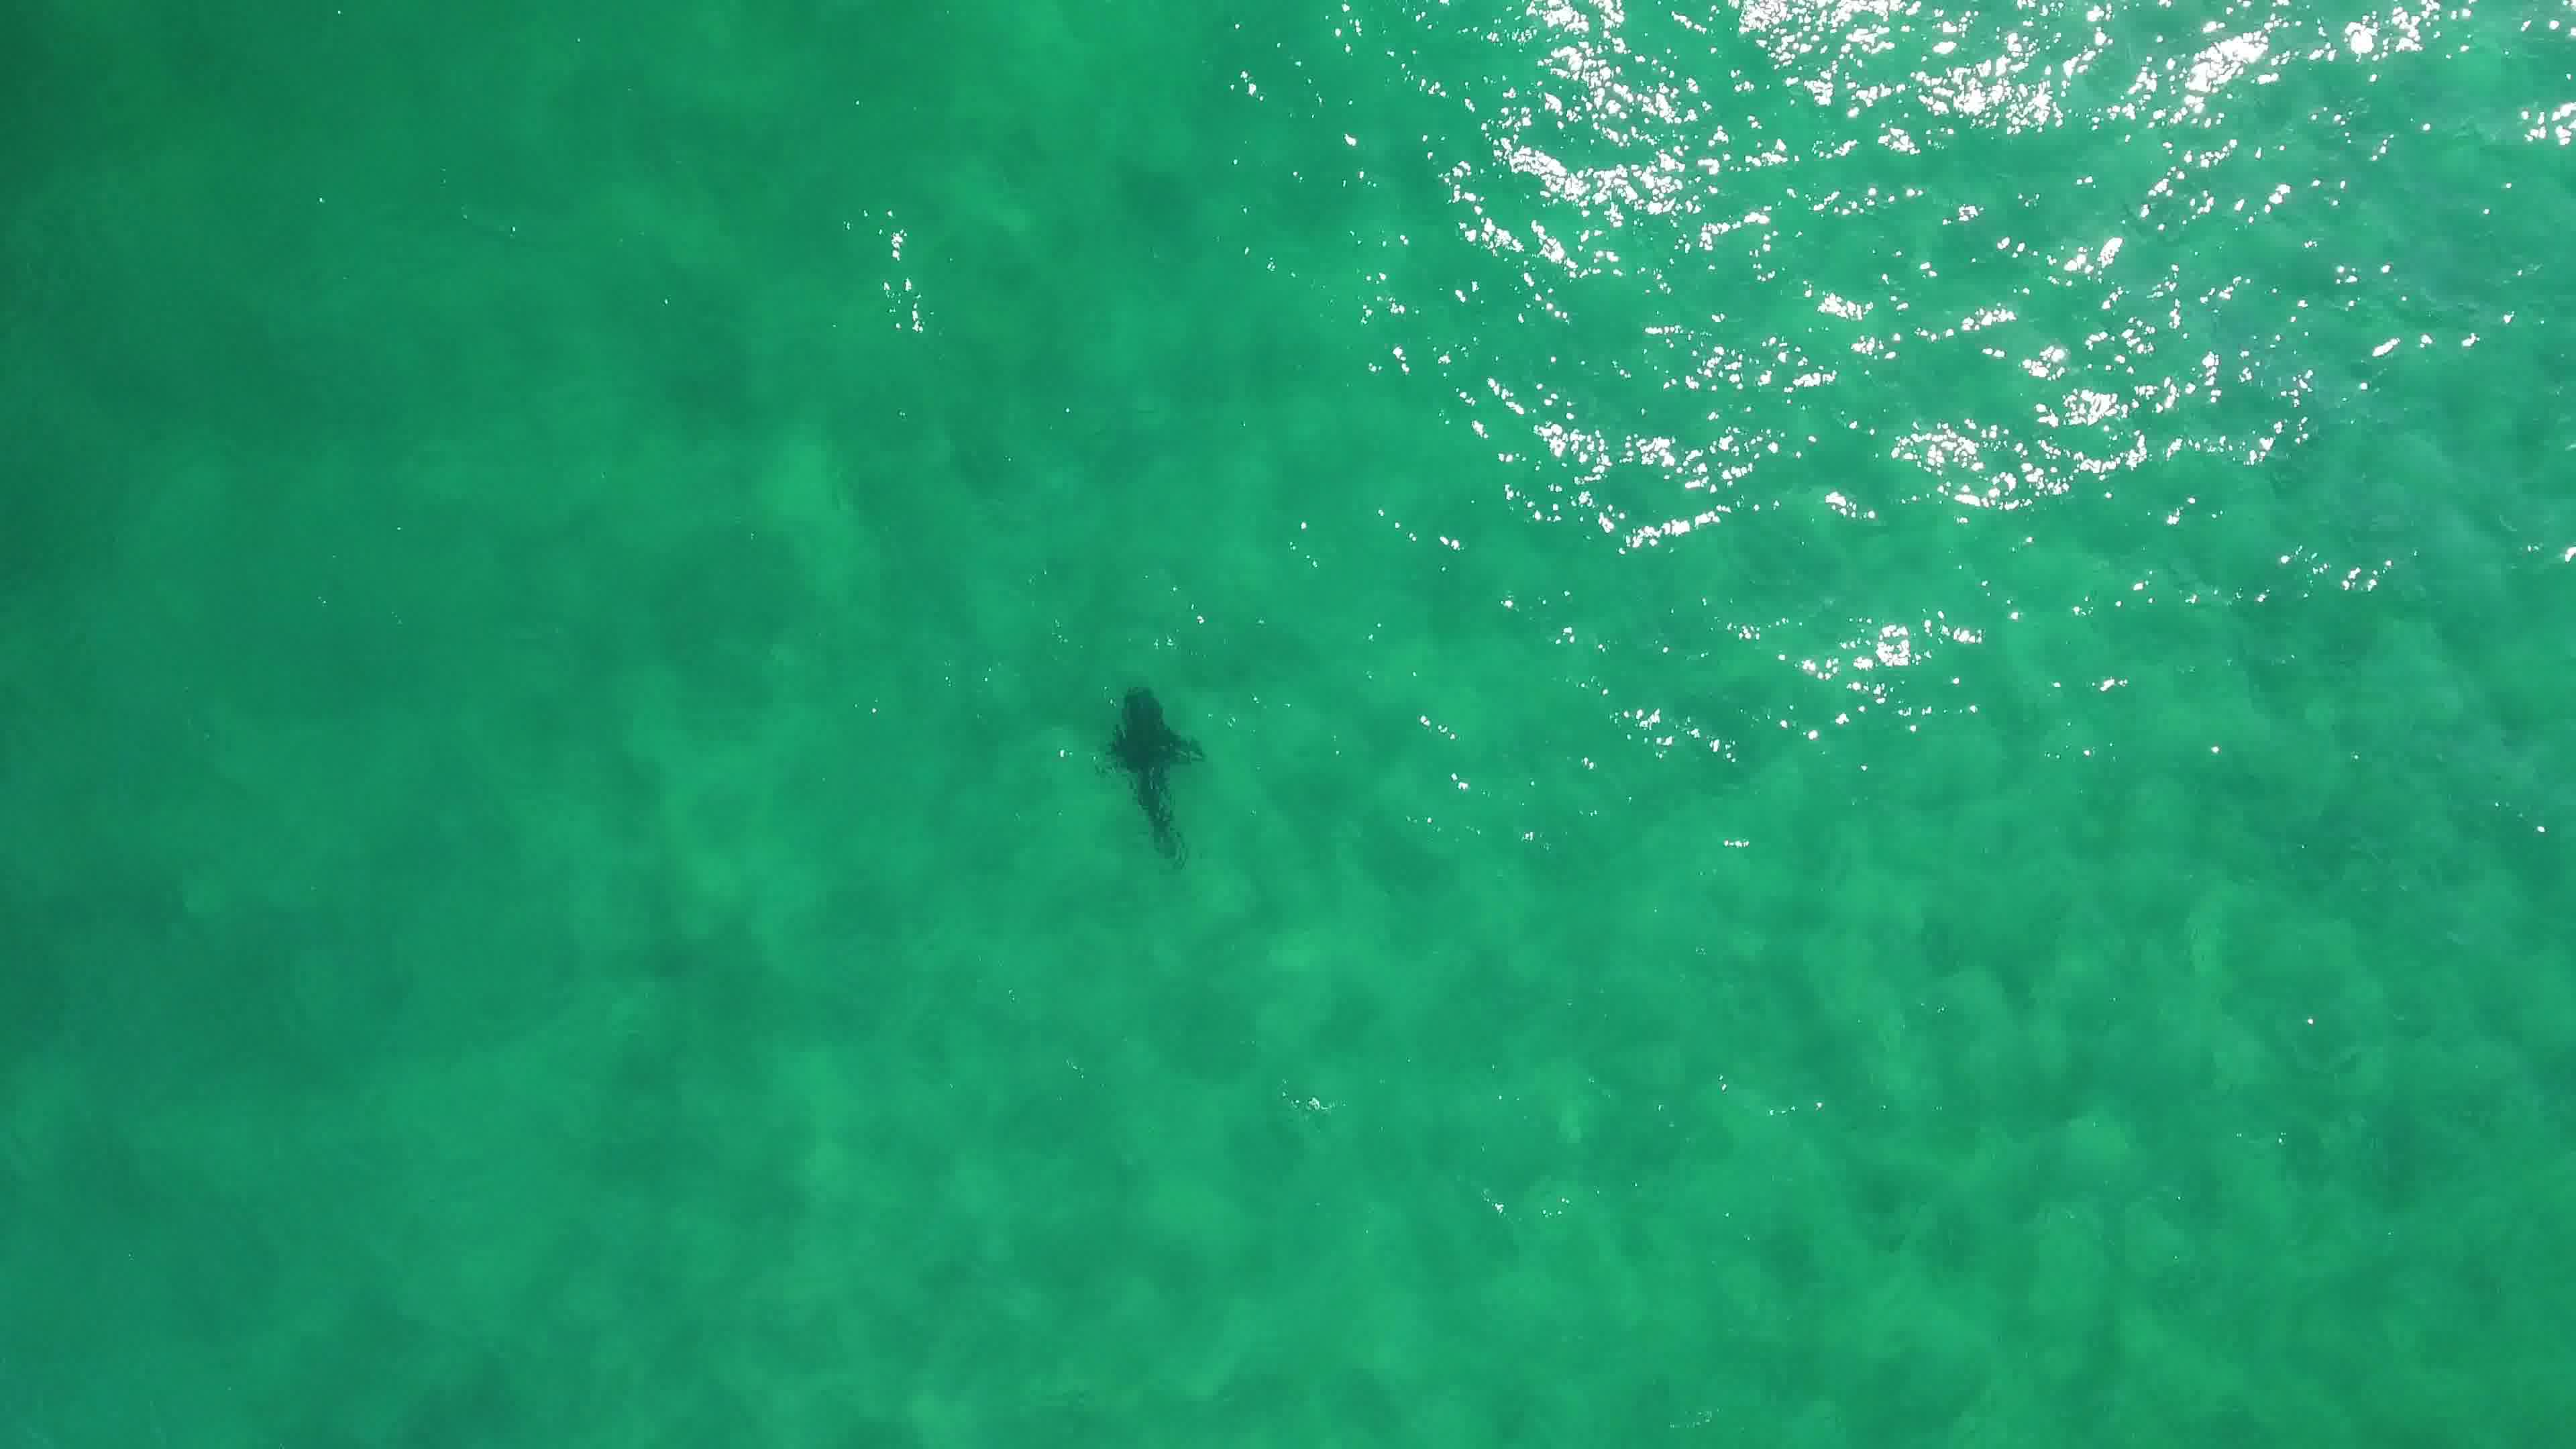shark: (1088, 678, 1214, 862)
